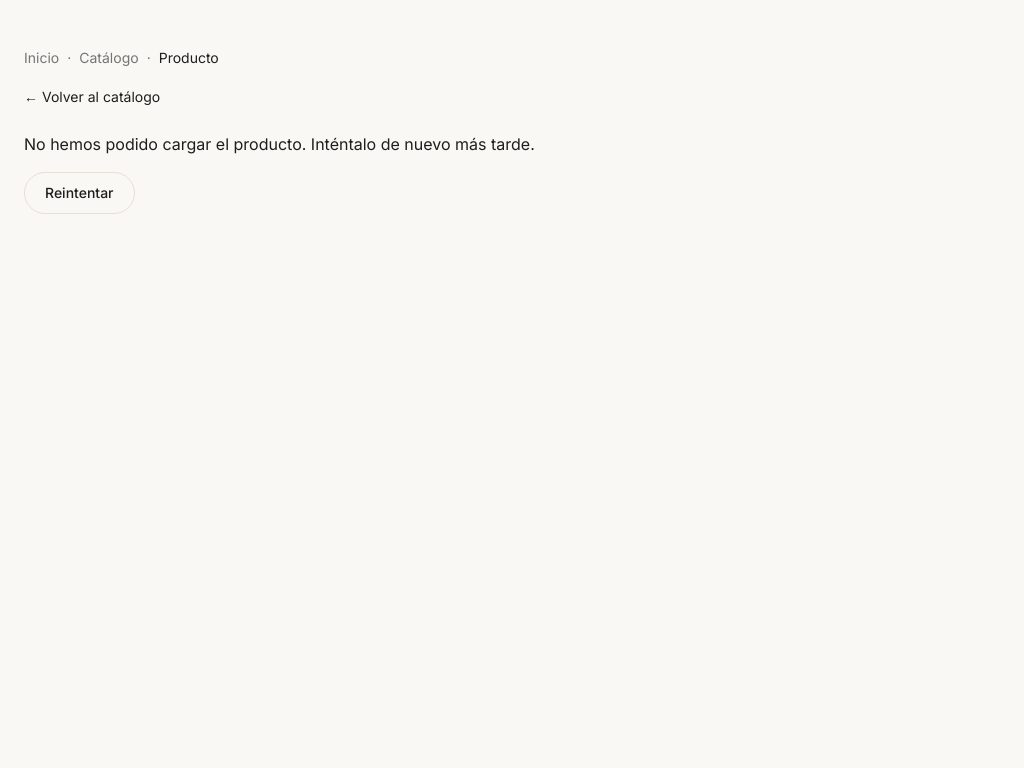
Test: ProductDetail › retries loading the product after a server error
Expected: the text "No hemos podido cargar el producto. Inténtalo de nuevo más tarde." is shown, x1=24 y1=134 x2=535 y2=154
Step 1. Click the button "Reintentar" → (79,193), box x1=24 y1=172 x2=134 y2=214
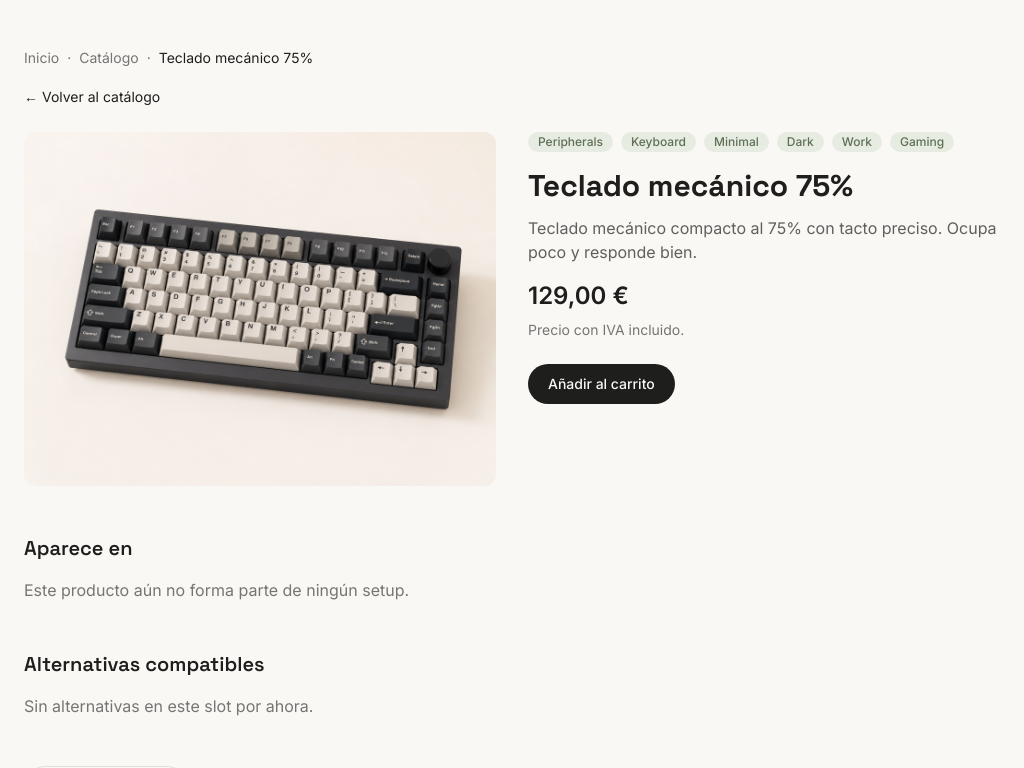
Expected: the heading "Teclado mecánico 75%" is shown, x1=528 y1=166 x2=853 y2=205
